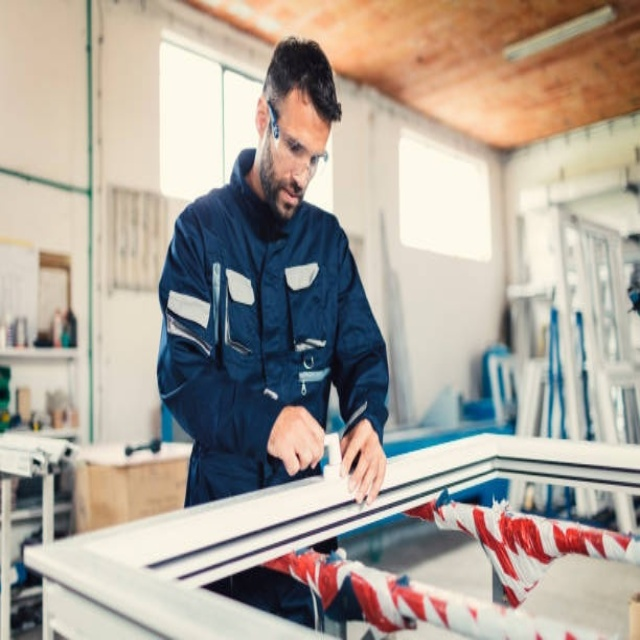Gafas: (267, 101, 329, 181)
Sin_guantes: (340, 417, 388, 508), (271, 400, 327, 477)
Sin_mascara: (275, 182, 301, 216)
